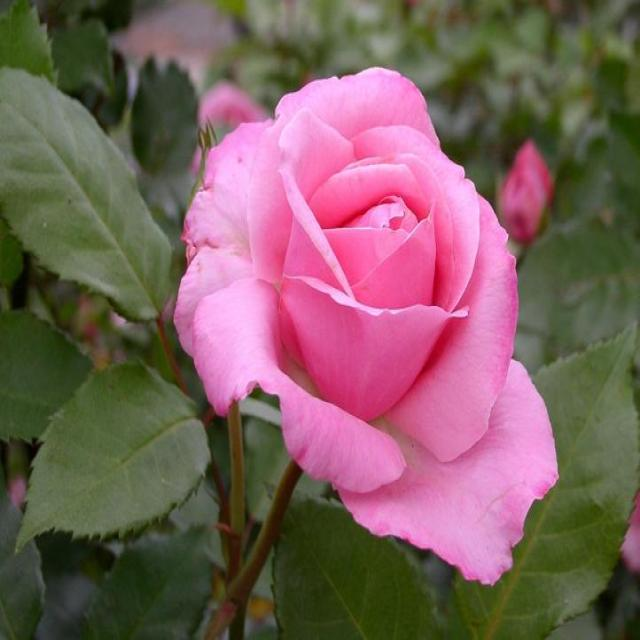rose: (153, 13, 569, 585)
